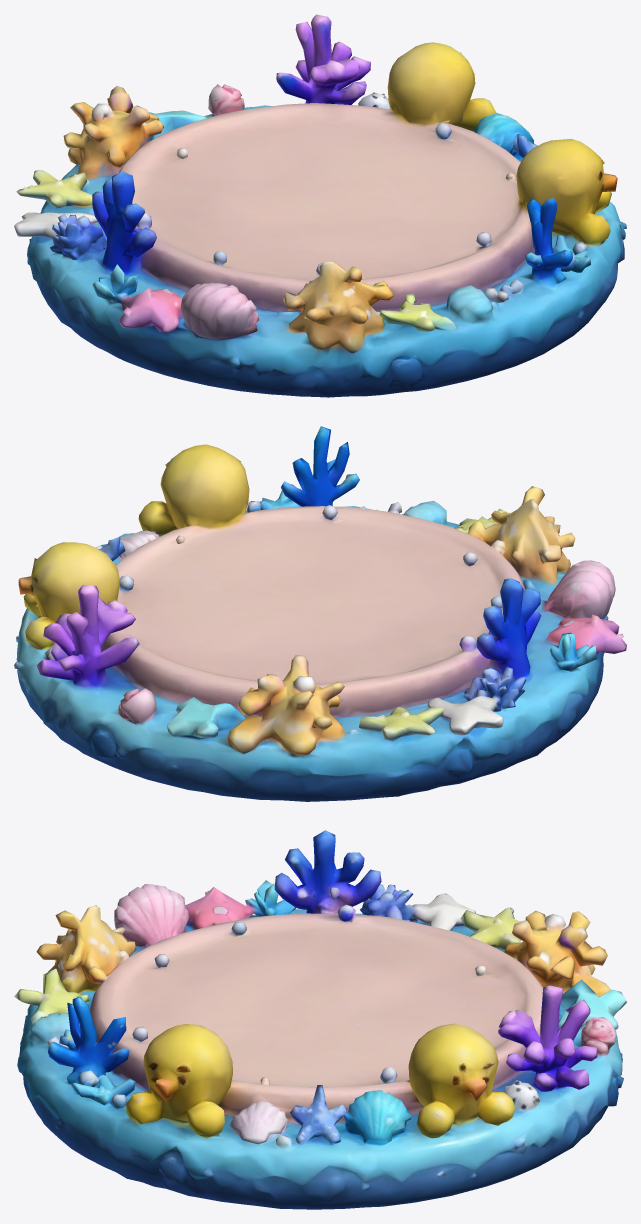
Rendered from stage.glb.
The picture shows the model from 3 angles, top to bottom: view 1: azimuth 30°, elevation 25°; view 2: azimuth 150°, elevation 25°; view 3: azimuth 270°, elevation 25°; orthographic projection.
Parts seen in each view (by area): view 1: tripo_node_01a21d92-c1ab-7cfc-bb51-41dfeaa7d4a4; view 2: tripo_node_01a21d92-c1ab-7cfc-bb51-41dfeaa7d4a4; view 3: tripo_node_01a21d92-c1ab-7cfc-bb51-41dfeaa7d4a4.
Boxes of the visible parts, x1,y1,x2,y2 form: tripo_node_01a21d92-c1ab-7cfc-bb51-41dfeaa7d4a4: (14,14,626,397); tripo_node_01a21d92-c1ab-7cfc-bb51-41dfeaa7d4a4: (14,426,626,801); tripo_node_01a21d92-c1ab-7cfc-bb51-41dfeaa7d4a4: (14,830,626,1209).
Bounding box in the file's own units: 0.9968 × 0.2937 × 1.
Materials: 1 (1 with a texture image).
